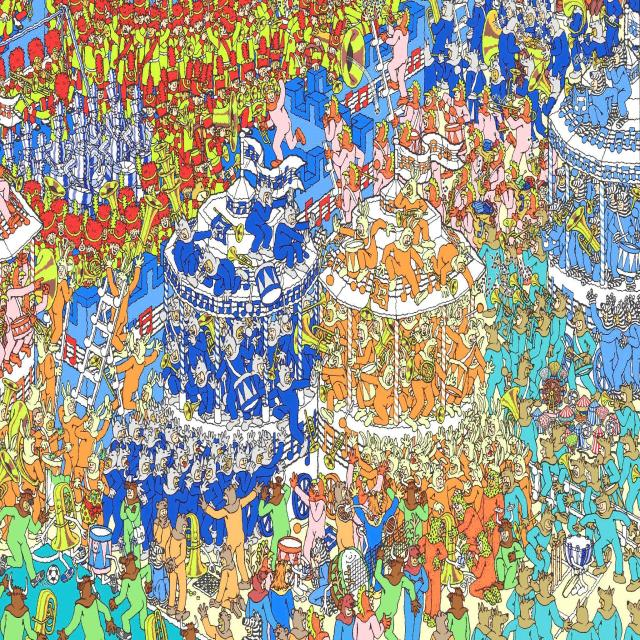waldo: (536, 180, 548, 199)
